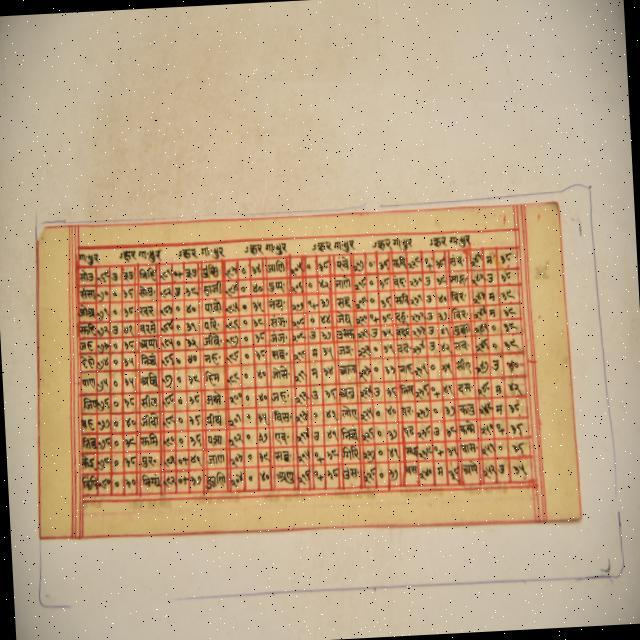text_paragraph: (31, 200, 583, 541)
